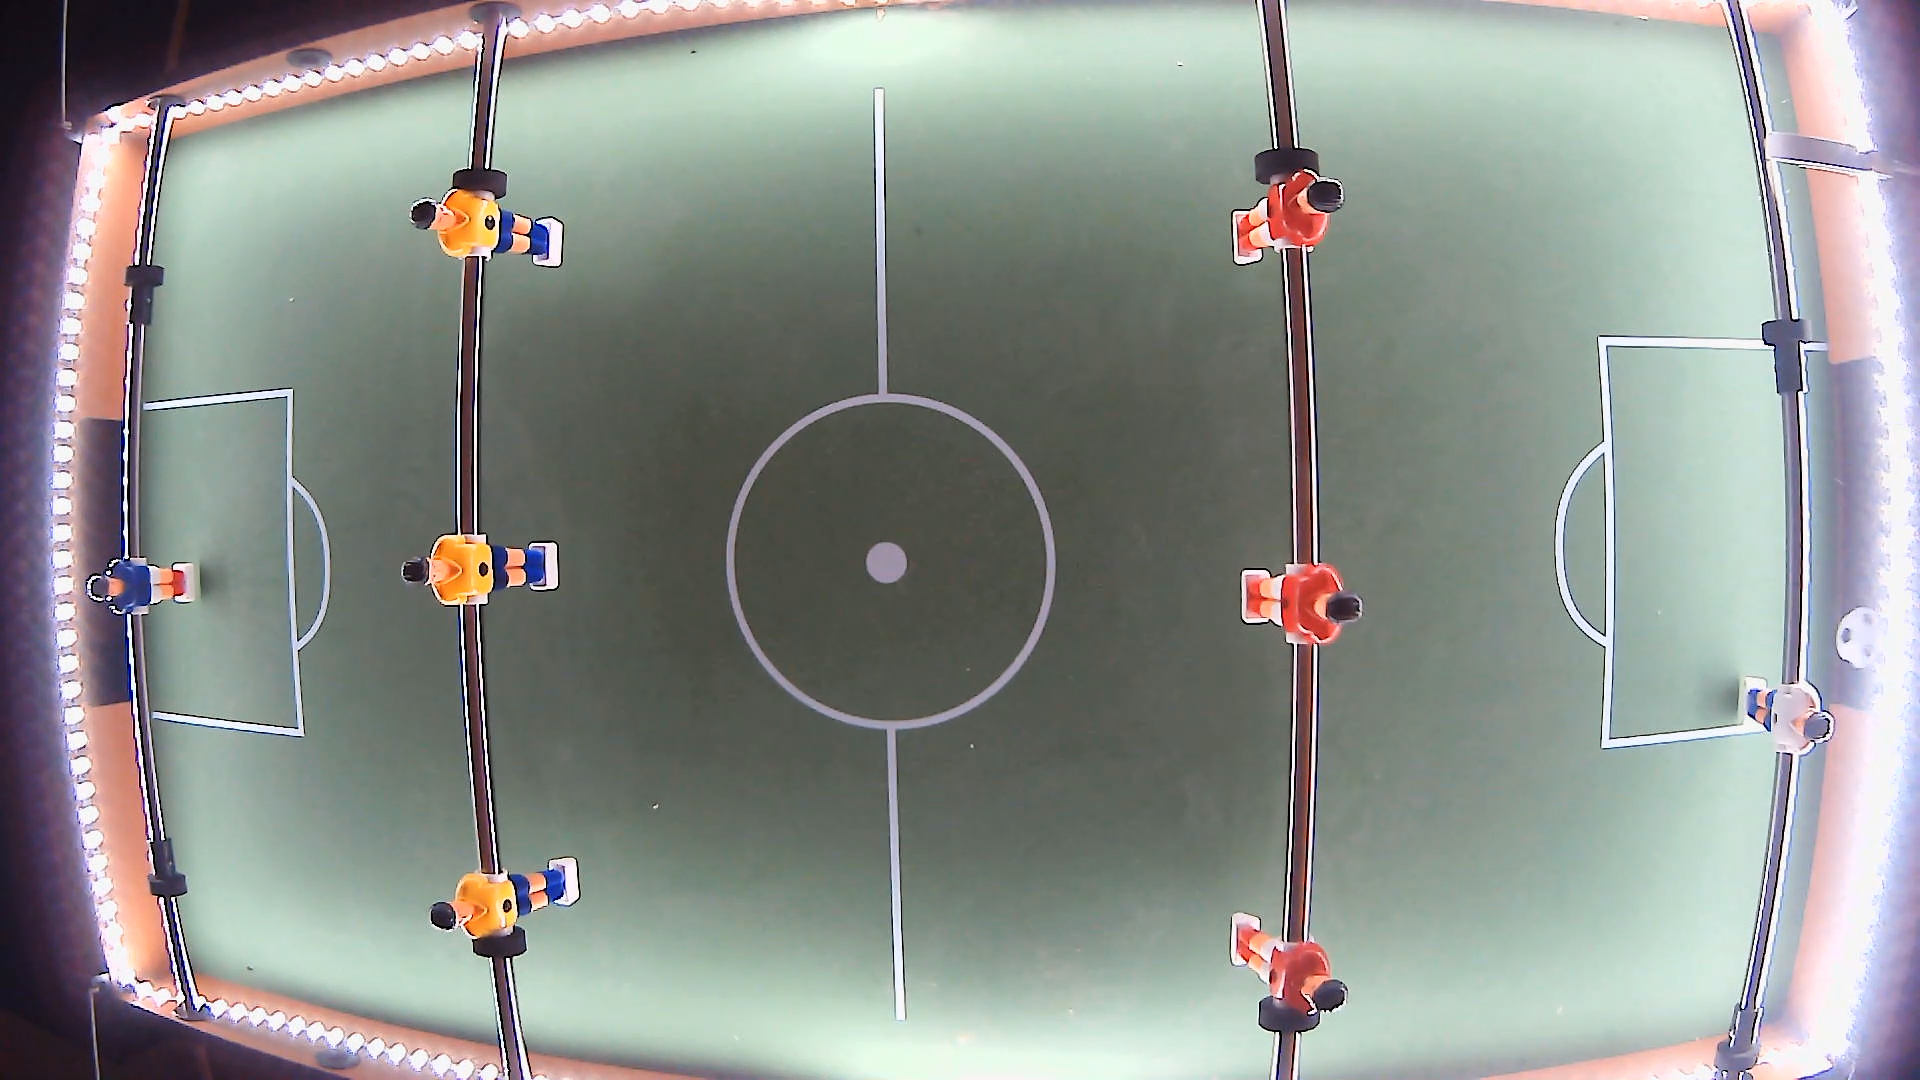Foosball: (1834, 607, 1888, 669)
